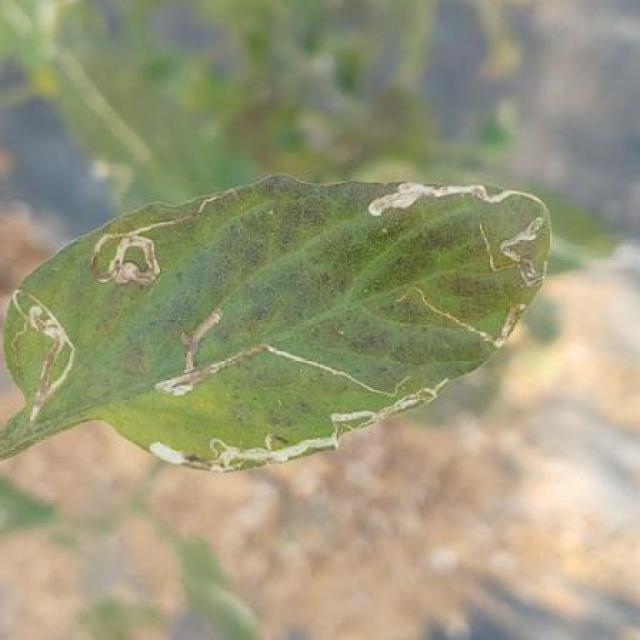Leaf Miner: (0, 168, 557, 476)
